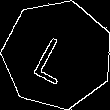L_NE: (32, 25, 83, 84)
